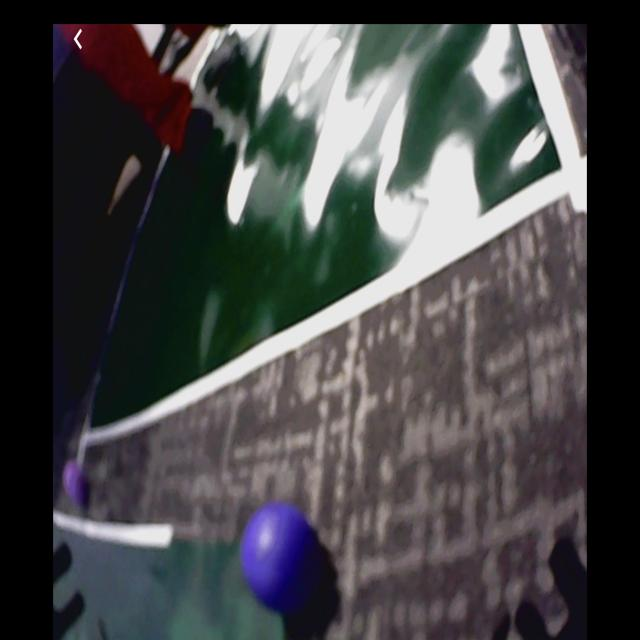ball: (243, 505, 312, 610), (64, 459, 88, 504)
